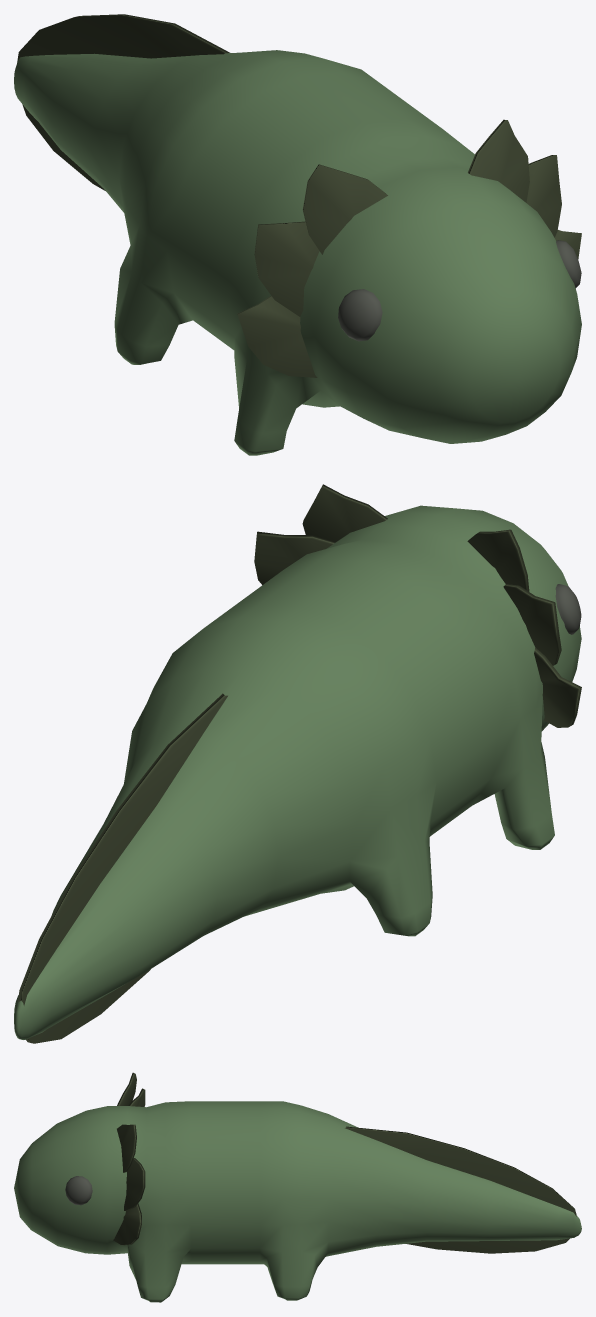
The model's file is Axolotl Little.fbx.
3 renders of one model, top to bottom at view 1: azimuth 30°, elevation 25°; view 2: azimuth 150°, elevation 25°; view 3: azimuth 270°, elevation 25°, orthographic. The views are drawn at different scales.
Visible parts, largest first — view 1: pCylinder1, pCylinder7, pCylinder6, pCylinder5; view 2: pCylinder1, pCylinder7, pCylinder6, pCylinder5; view 3: pCylinder1, pCylinder6, pCylinder7, pCylinder5.
Boxes of the visible parts, x1,y1,x2,y2 form: pCylinder1: [14, 50, 581, 455]; pCylinder7: [237, 119, 581, 377]; pCylinder6: [17, 14, 229, 190]; pCylinder5: [338, 240, 581, 341]; pCylinder1: [14, 505, 581, 1039]; pCylinder7: [254, 484, 581, 727]; pCylinder6: [18, 693, 227, 1043]; pCylinder5: [555, 584, 581, 634]; pCylinder1: [14, 1101, 581, 1302]; pCylinder6: [345, 1126, 576, 1253]; pCylinder7: [113, 1072, 145, 1245]; pCylinder5: [65, 1176, 92, 1205].
Size of the model in its own units: 3.68 by 2.95 by 9.33.
